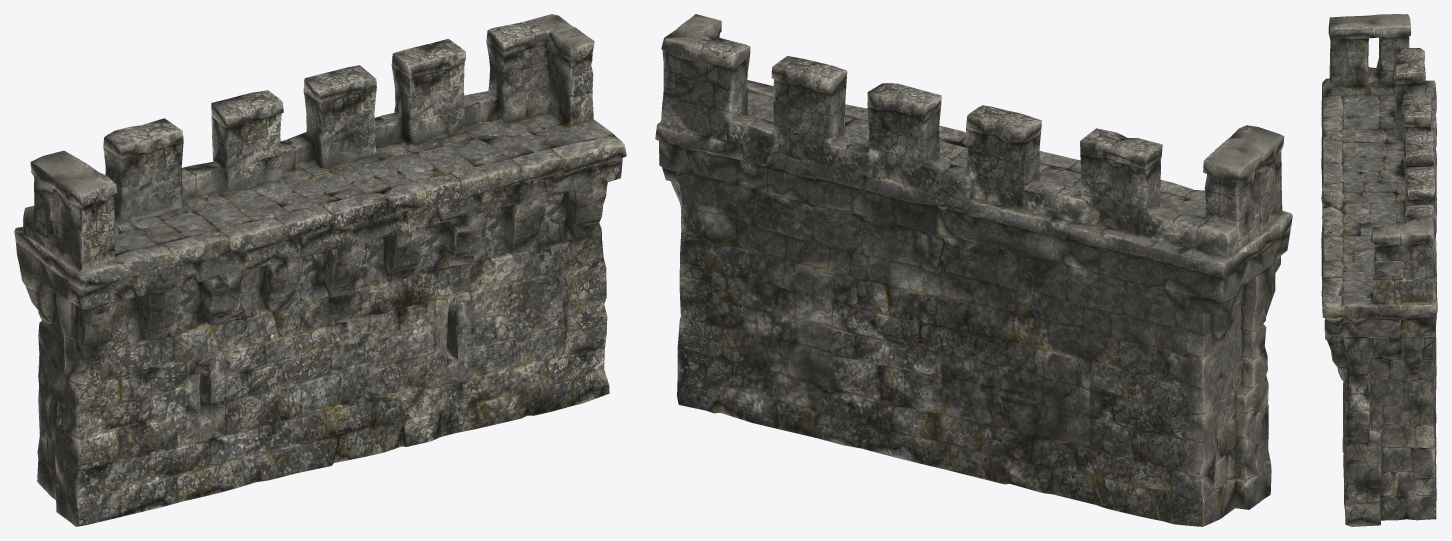
The model's file is castle_wall.glb.
The picture shows the model from 3 angles, left to right: view 1: azimuth 30°, elevation 25°; view 2: azimuth 150°, elevation 25°; view 3: azimuth 270°, elevation 25°; orthographic projection. The views are drawn at different scales.
Parts seen in each view (by area): view 1: castle_wall; view 2: castle_wall; view 3: castle_wall.
Part boxes in pixels (bbox=[...]): castle_wall: bbox=[14, 14, 626, 526]; castle_wall: bbox=[655, 14, 1292, 526]; castle_wall: bbox=[1321, 14, 1437, 526].
Bounding box in the file's own units: 1.9 × 1.15 × 0.4126.
1 material, 1 textured.
